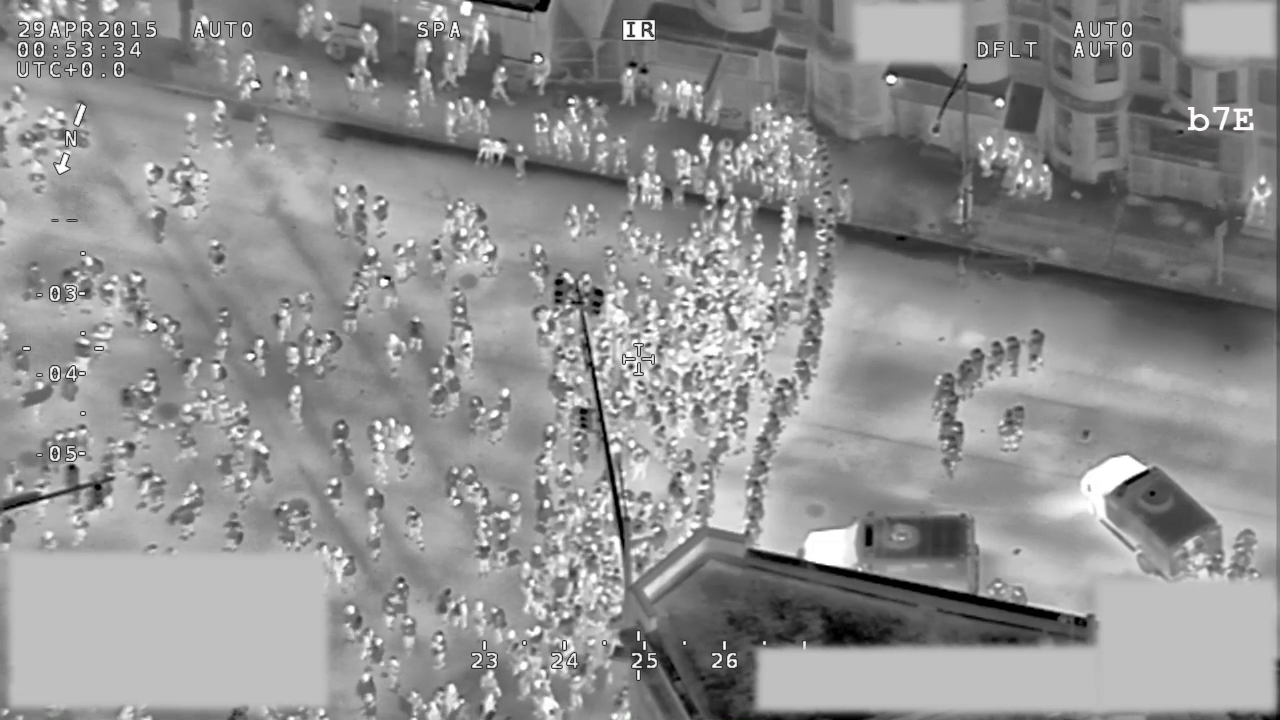vehicle: (1076, 447, 1228, 585), (800, 508, 986, 598)
